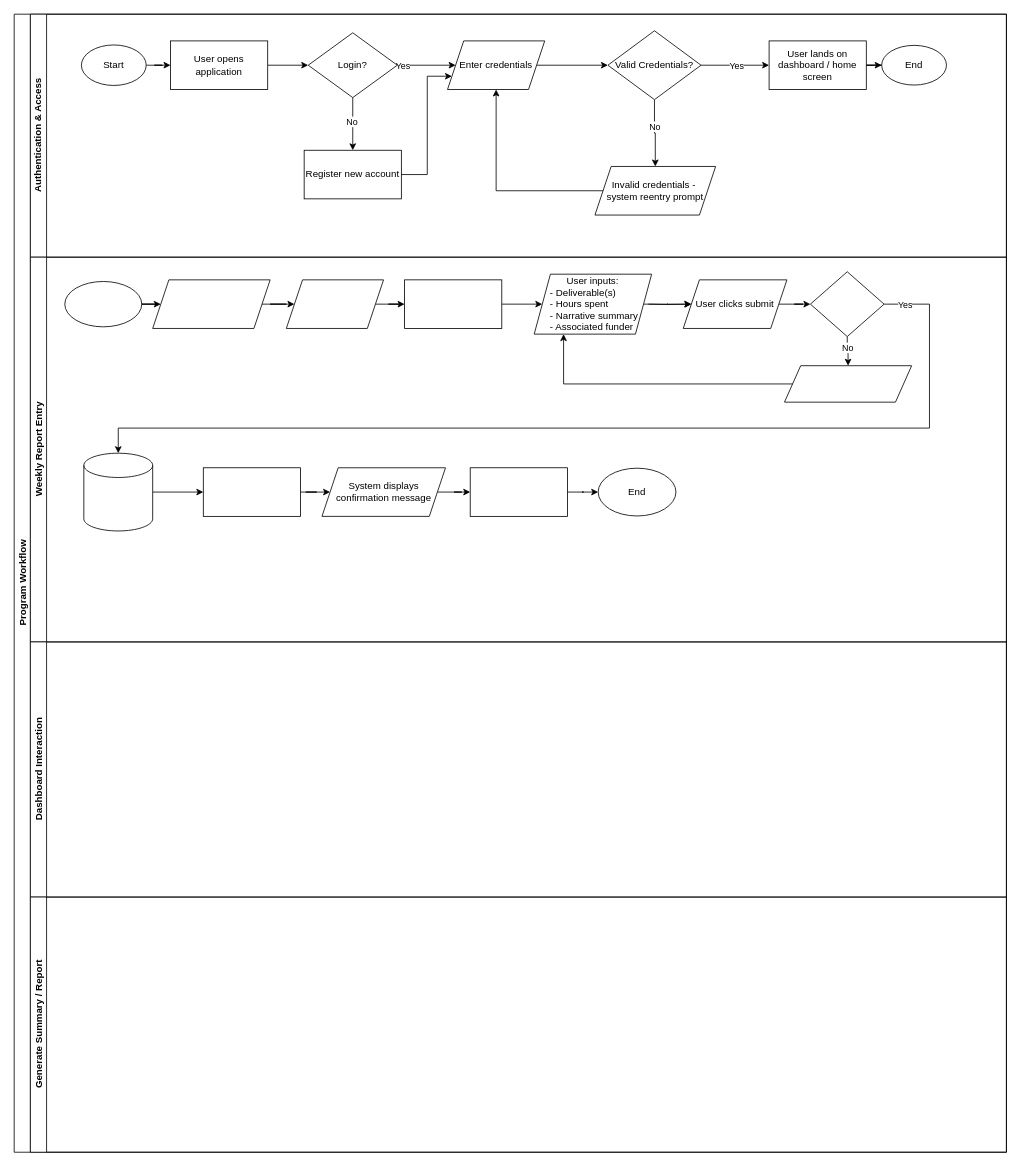
Image size: 1021x1166. Some labels were removed from this diagram. Each missing label, with the box of its shape:
INSERT into weekly_reports table: (83, 452, 153, 531)
Is form valid?: (810, 271, 884, 337)
Return to dashboard: (469, 467, 567, 516)
Start (at Dashboard): (64, 281, 142, 327)
System displays error & re-entry prompt: (784, 365, 912, 402)
System loads form: (404, 279, 502, 328)
System updates related tables: (202, 467, 301, 516)
User clicks "add weekly report": (286, 279, 384, 328)
User selects project: (152, 279, 270, 328)
